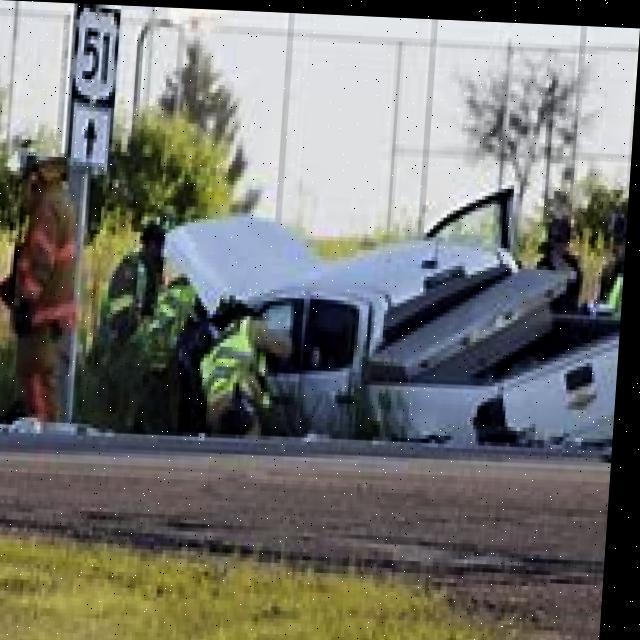single accident: (116, 176, 617, 462)
